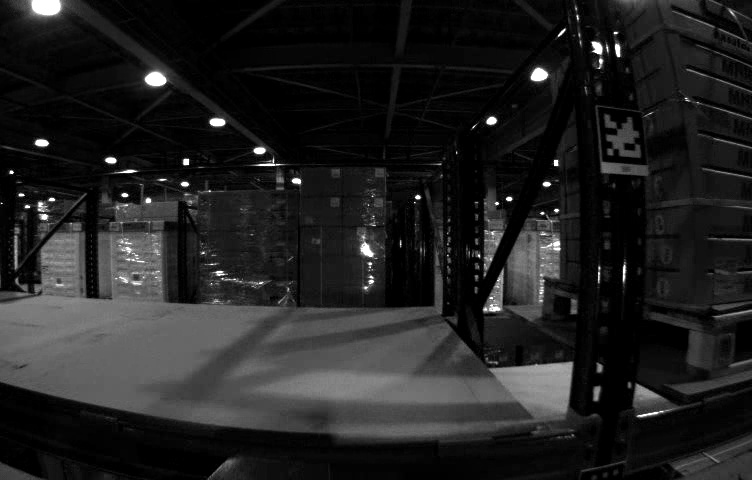True Barcode: (714, 257, 744, 295)
